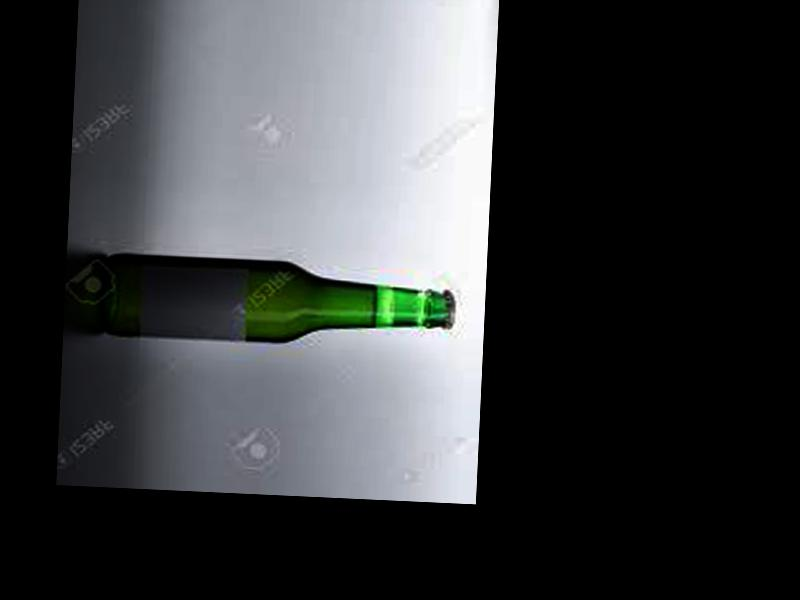Beer: (101, 253, 456, 351)
